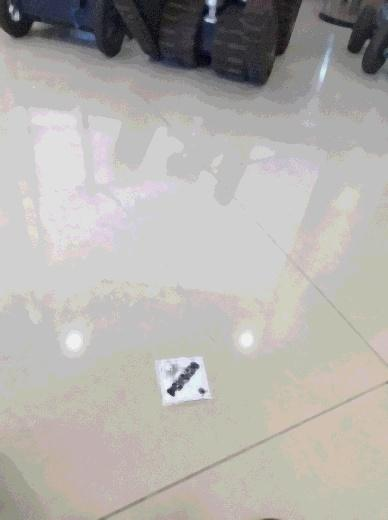poison: (155, 356, 213, 407)
